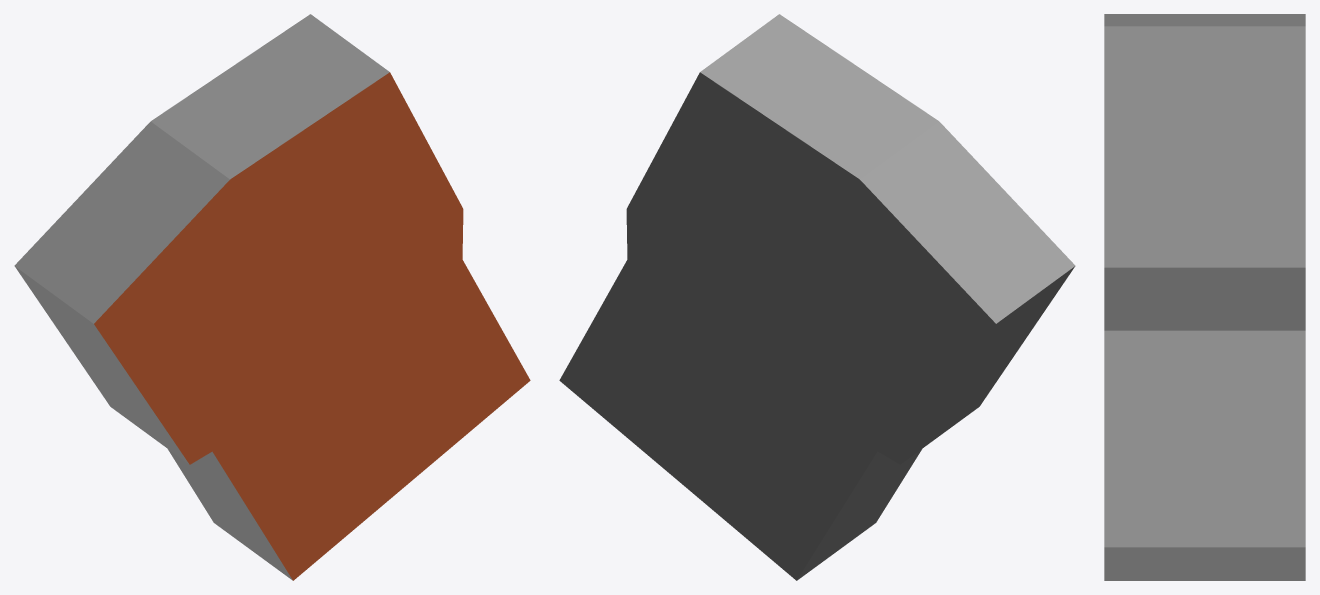
File: construction_2249_assumed_A_Casa_h6m.obj
3 renders of one model, left to right at view 1: azimuth 30°, elevation 25°; view 2: azimuth 150°, elevation 25°; view 3: azimuth 270°, elevation 25°, orthographic. The views are drawn at different scales.
Visible parts, largest first — view 1: construction_2249_assumed_A_Casa; view 2: construction_2249_assumed_A_Casa; view 3: construction_2249_assumed_A_Casa.
Boxes of the visible parts, x1,y1,x2,y2 form: construction_2249_assumed_A_Casa: (14,14,530,580); construction_2249_assumed_A_Casa: (559,14,1075,580); construction_2249_assumed_A_Casa: (1104,14,1305,580).
Bounding box in the file's own units: 19.04 × 20.21 × 6.
